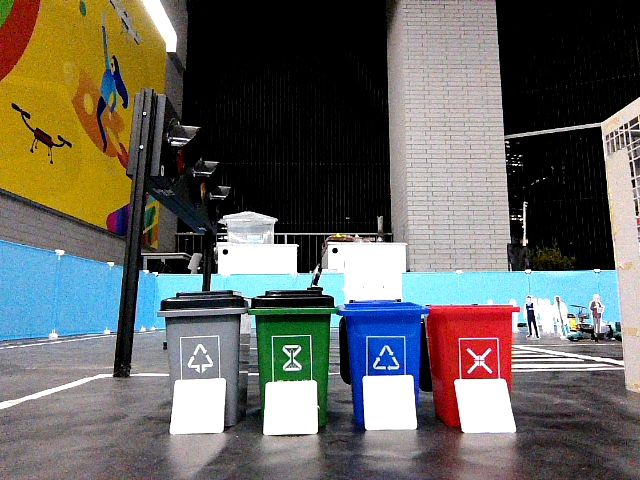blue_open: (347, 299, 418, 373)
green_close: (254, 290, 330, 377)
grey_close: (165, 292, 239, 376)
red_open: (433, 305, 508, 375)
